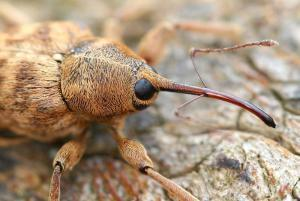Curculionidae: (1, 1, 280, 201)
